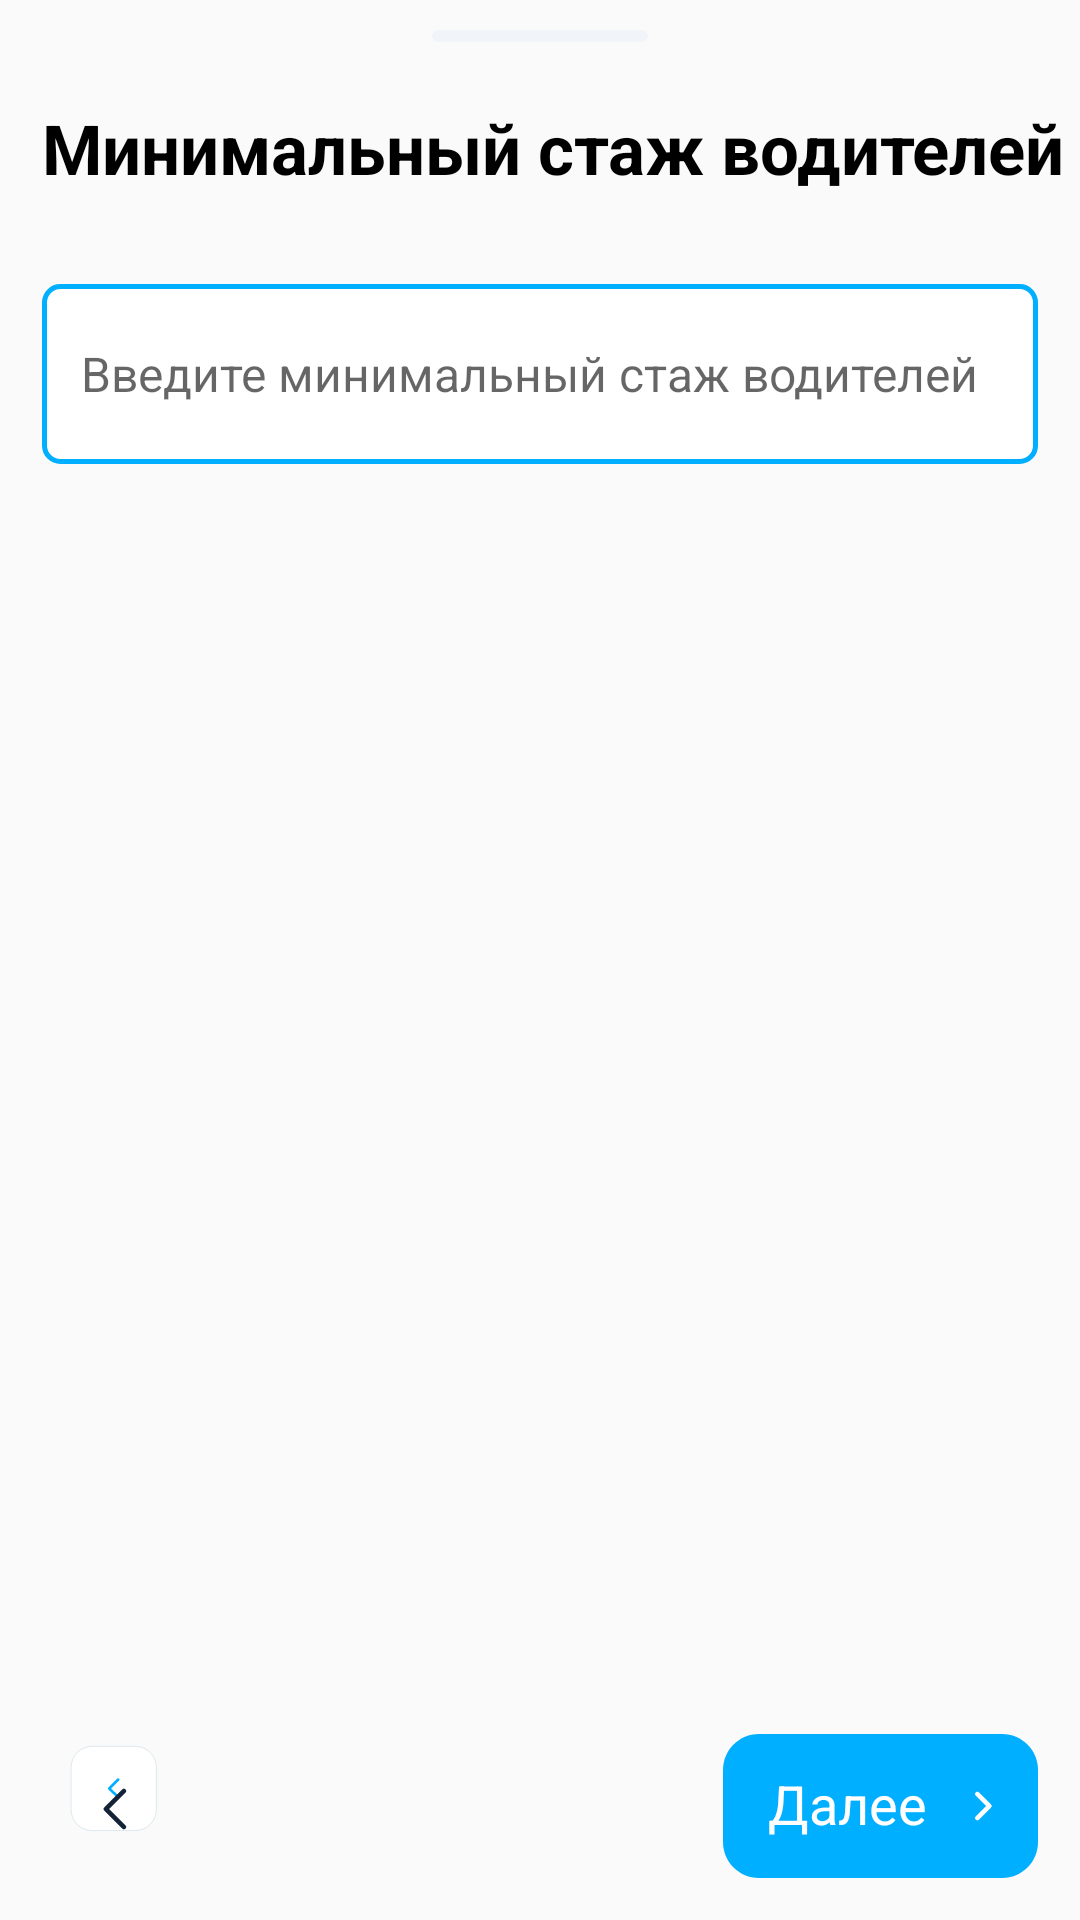

Named icons in this screenshot (1080px×1920px) and their bounding boxes, (x1, y1, x2, y2):
back: (103, 1788, 127, 1830)
